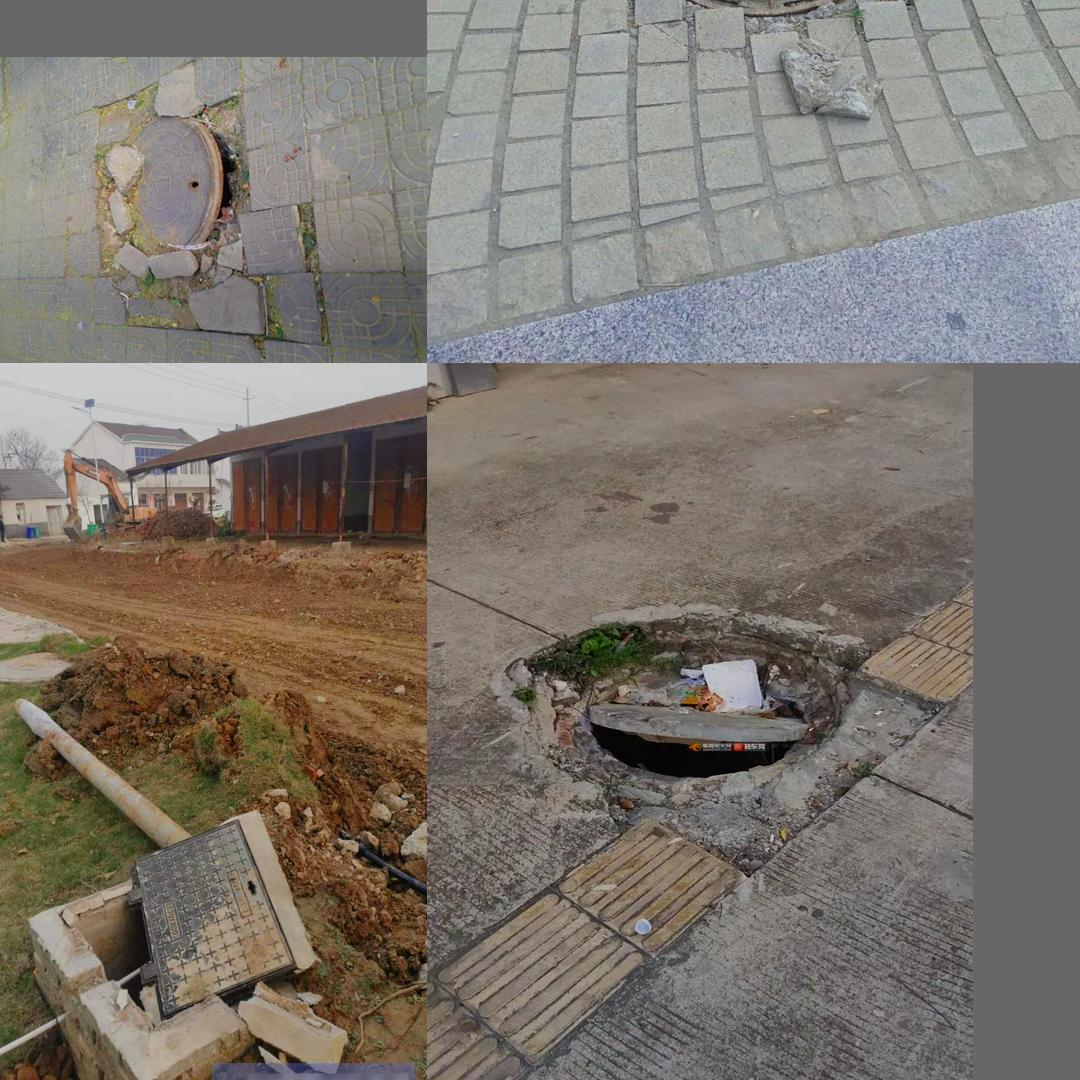circle: (475, 597, 921, 858), (46, 807, 337, 1065), (92, 96, 267, 337), (589, 0, 939, 53)
